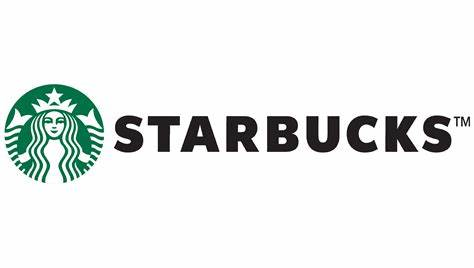starbucks Originale: (2, 77, 108, 189)
